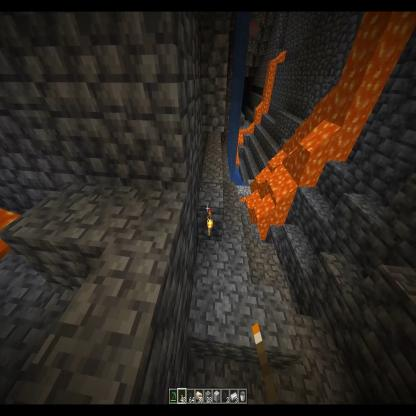redstone ore: (250, 19, 260, 38)
